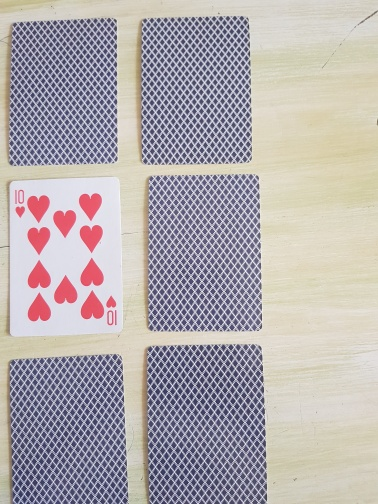ten: (8, 178, 124, 336)
